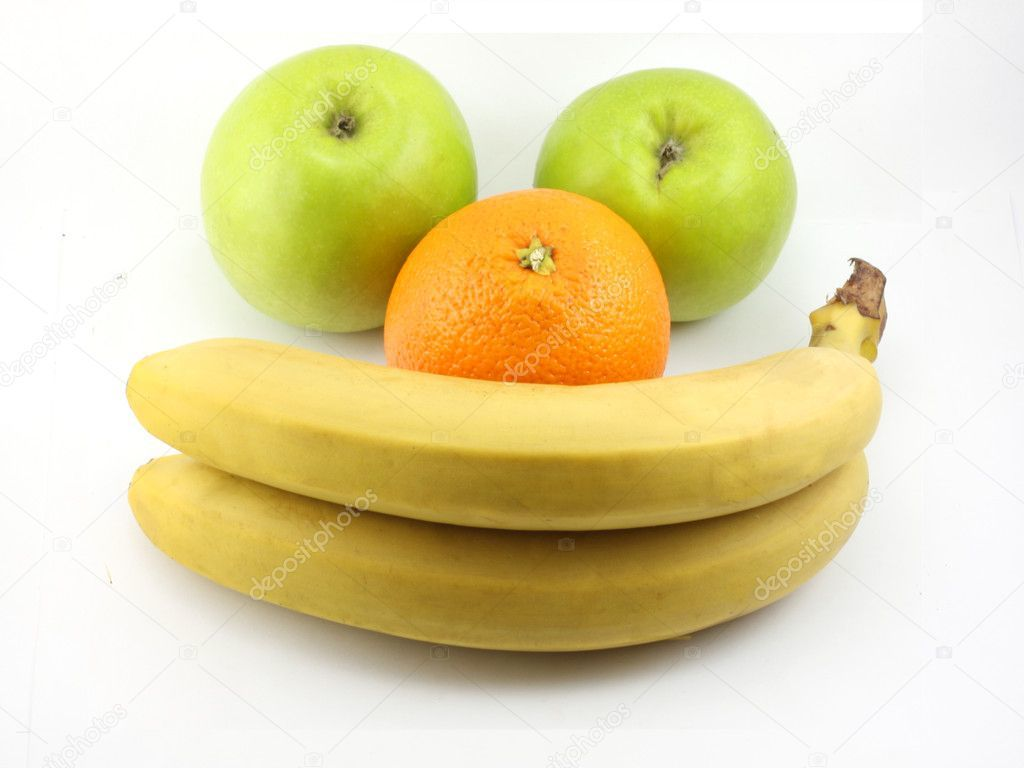banana: (115, 452, 958, 660), (105, 333, 930, 529)
orange: (373, 181, 685, 469)
